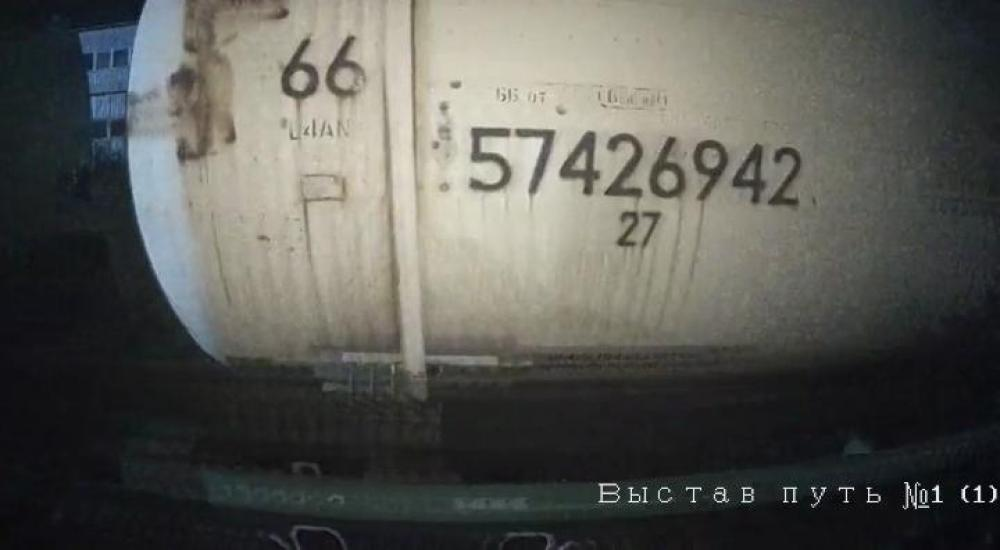Wagon-number: (461, 121, 807, 213)
